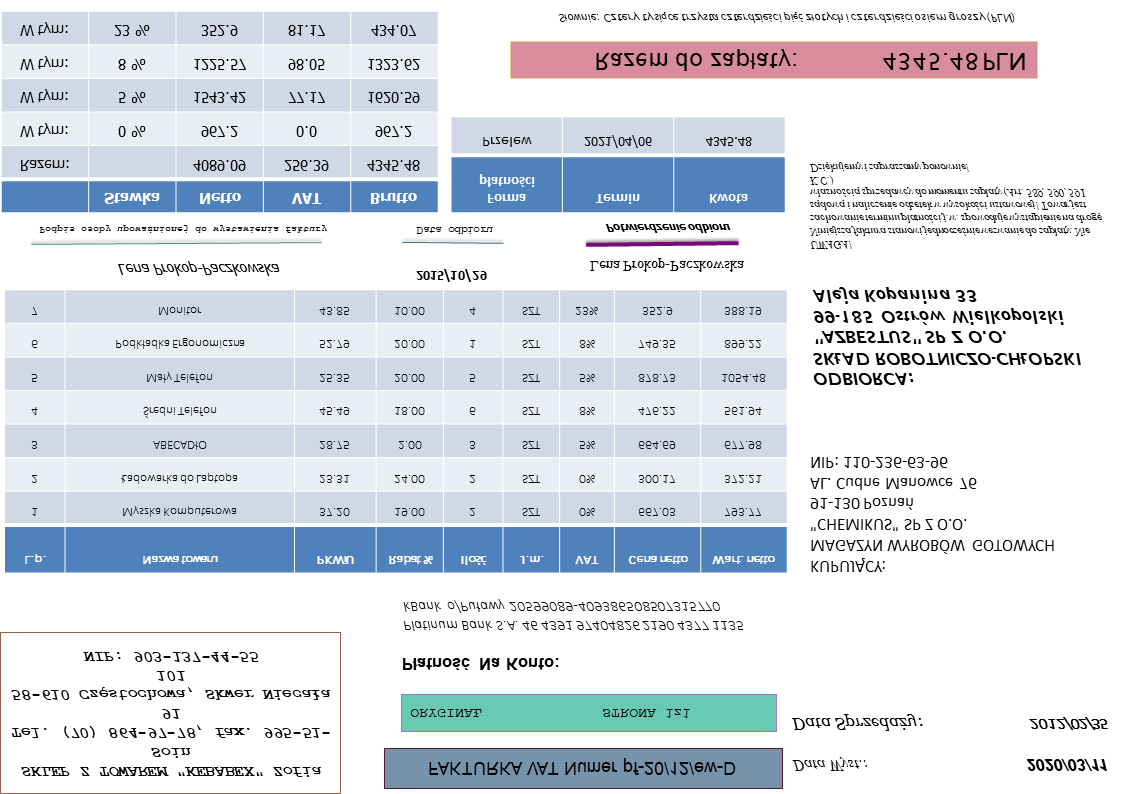Table: (2, 288, 789, 574), (1, 9, 440, 214), (450, 116, 787, 214)
TextBox: (6, 650, 334, 780), (807, 453, 1058, 578), (811, 285, 1083, 389), (807, 159, 1106, 253), (399, 598, 746, 635), (594, 47, 1027, 74), (425, 756, 740, 781), (557, 10, 1018, 26), (409, 705, 694, 722), (36, 223, 329, 236), (115, 259, 282, 279), (400, 654, 562, 674), (586, 257, 744, 276), (790, 712, 926, 733), (603, 221, 731, 237), (1025, 756, 1109, 774), (791, 756, 869, 775), (1027, 715, 1109, 733), (414, 266, 489, 285), (414, 223, 494, 238)
